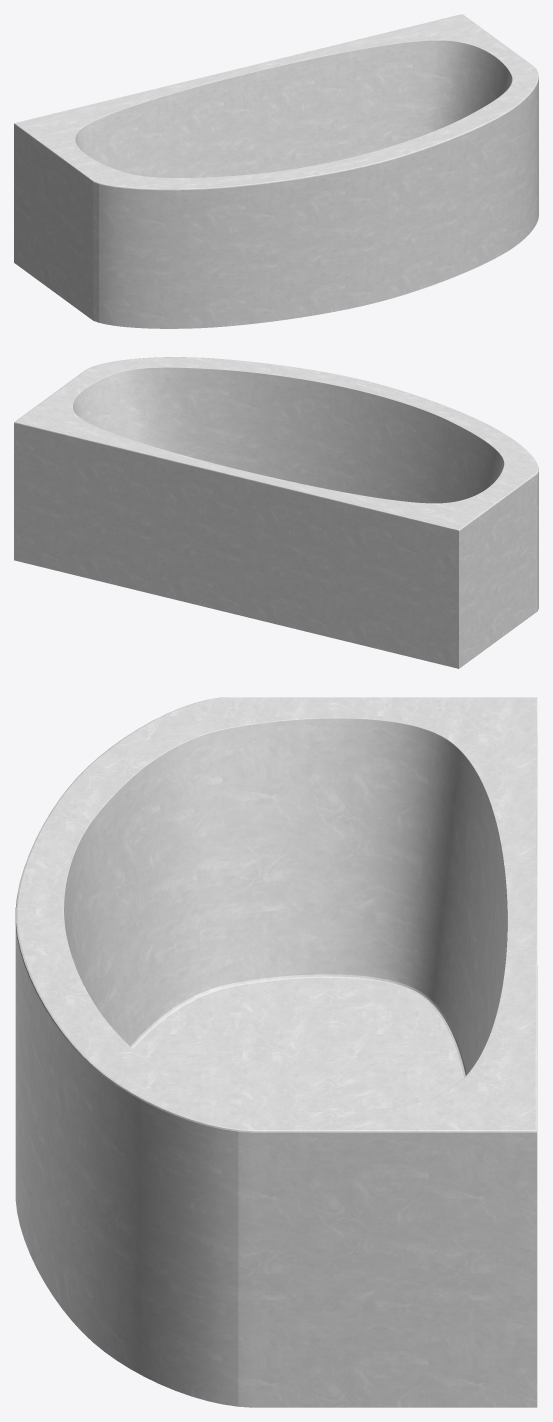
The model's file is Bath04.FBX.
The picture shows the model from 3 angles, top to bottom: view 1: azimuth 30°, elevation 25°; view 2: azimuth 150°, elevation 25°; view 3: azimuth 270°, elevation 25°; orthographic projection. The views are drawn at different scales.
Visible parts, largest first — view 1: Bath04; view 2: Bath04; view 3: Bath04.
Part boxes in pixels (x1=…): Bath04: x1=14, y1=14, x2=538, y2=328; Bath04: x1=14, y1=357, x2=538, y2=668; Bath04: x1=15, y1=697, x2=537, y2=1407.
Size of the model in its own units: 102 by 30.42 by 51.99.
